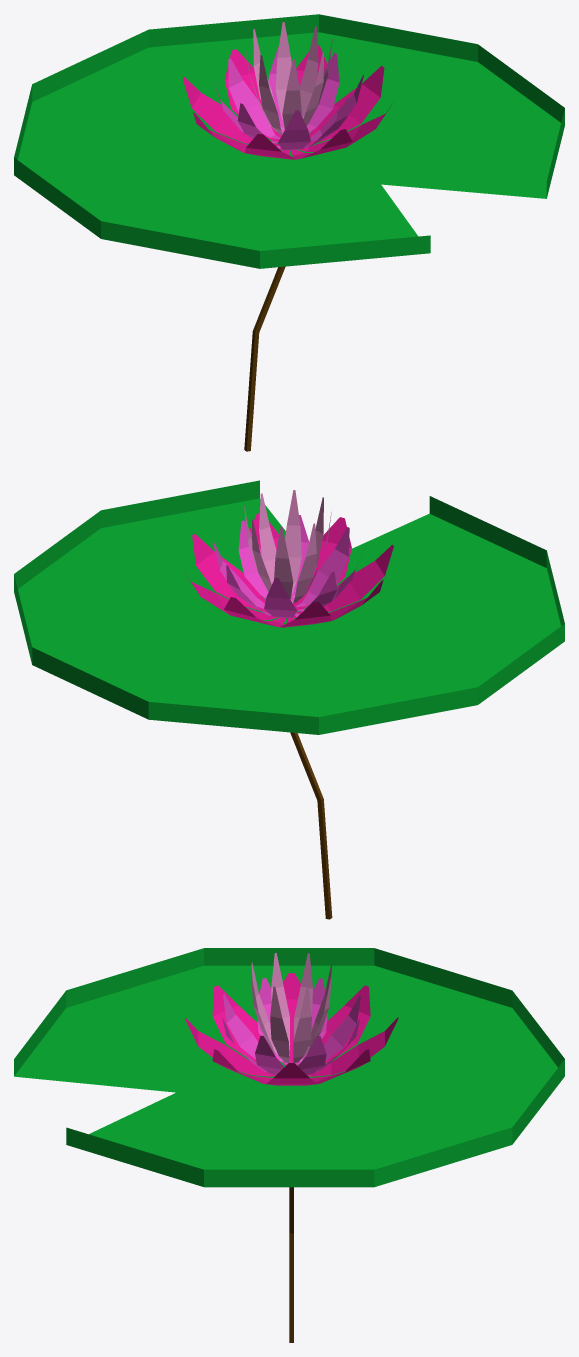
File: lily and pad.fbx
3 views of the same model, one above another, from view 1: azimuth 30°, elevation 25°; view 2: azimuth 150°, elevation 25°; view 3: azimuth 270°, elevation 25° (orthographic). The views are drawn at different scales.
Visible parts, largest first — view 1: Cylinder.001, Cube, Cube.001, Cube.002, Cube.003; view 2: Cylinder.001, Cube, Cube.001, Cube.002, Cube.003; view 3: Cylinder.001, Cube, Cube.001, Cube.002, Cube.003.
Boxes of the visible parts, box(x1,y1,x2,y2) form: Cylinder.001: box(14, 14, 564, 268); Cube: box(183, 45, 391, 159); Cube.001: box(214, 47, 363, 150); Cube.002: box(244, 22, 332, 134); Cube.003: box(244, 266, 285, 451); Cylinder.001: box(14, 480, 564, 734); Cube: box(184, 513, 393, 627); Cube.001: box(213, 515, 355, 618); Cube.002: box(244, 490, 331, 603); Cube.003: box(286, 618, 332, 919); Cylinder.001: box(14, 948, 564, 1187); Cube: box(185, 973, 398, 1085); Cube.001: box(222, 978, 360, 1074); Cube.002: box(251, 953, 331, 1062); Cube.003: box(289, 1187, 293, 1342).
Bounding box in the file's own units: 5566 × 4586 × 5848.
